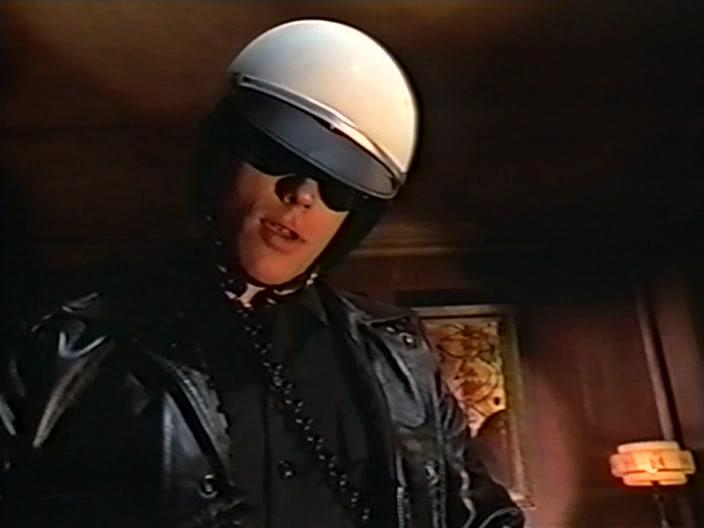helmet: (210, 4, 423, 144)
